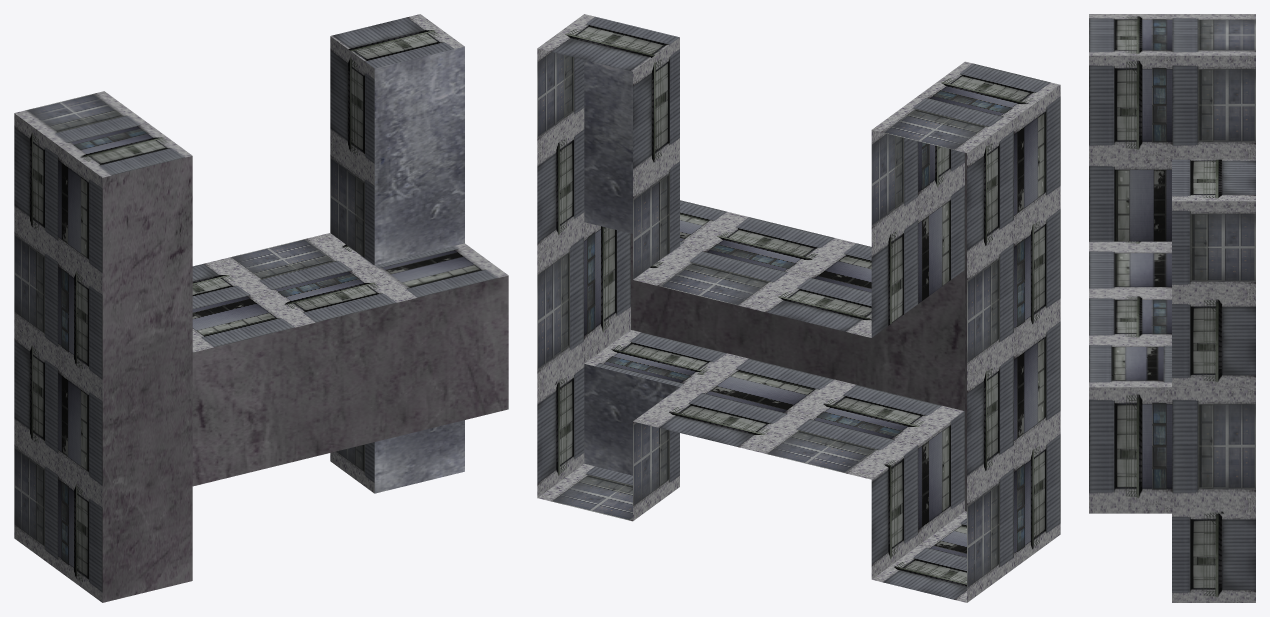
Rendered from urbanconc01b_wtf.obj.
The picture shows the model from 3 angles, left to right: view 1: azimuth 30°, elevation 25°; view 2: azimuth 150°, elevation 25°; view 3: azimuth 270°, elevation 25°; orthographic projection. The views are drawn at different scales.
Visible parts, largest first — view 1: group4, group3, group5; view 2: group3, group4, group5; view 3: group3.
Boxes of the visible parts, bbox=[...] form: group4: bbox=[102, 156, 508, 602]; group3: bbox=[14, 14, 508, 602]; group5: bbox=[374, 46, 464, 493]; group3: bbox=[537, 14, 1060, 602]; group4: bbox=[631, 153, 966, 511]; group5: bbox=[584, 60, 679, 475]; group3: bbox=[1089, 14, 1255, 602].
Bounding box in the file's own units: 660 × 660 × 249.
